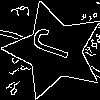J: (29, 25, 84, 65)
